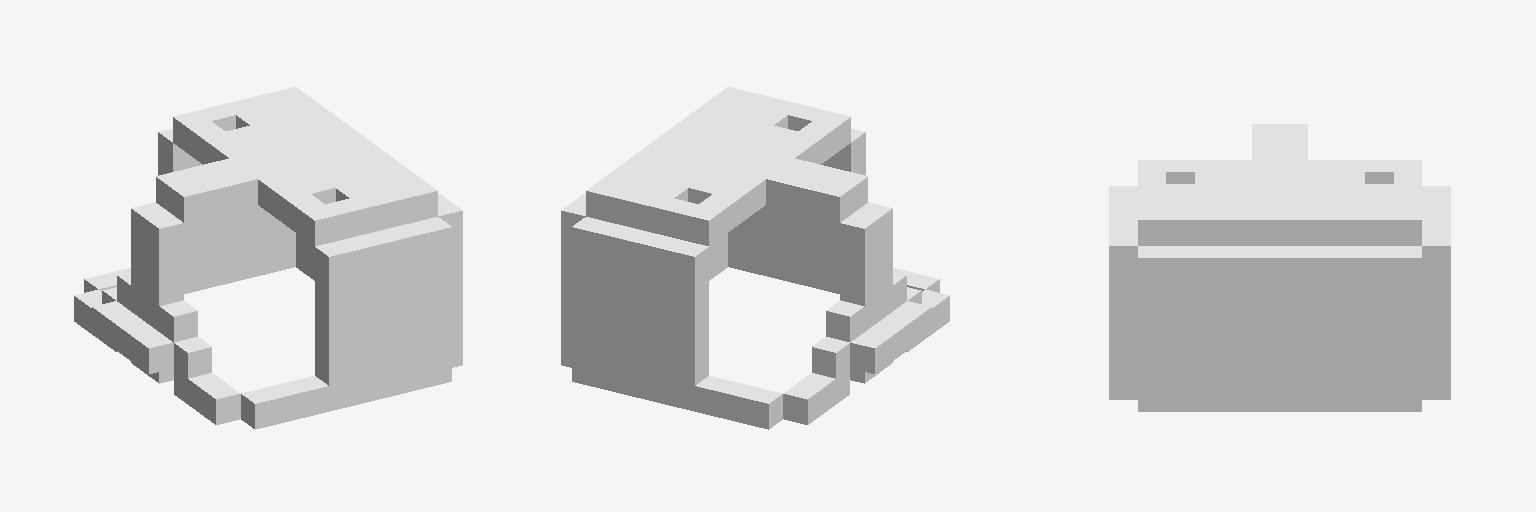
The model's file is MoscaNivel5-1.obj.
3 views of the same model, side by side, from view 1: azimuth 30°, elevation 25°; view 2: azimuth 150°, elevation 25°; view 3: azimuth 270°, elevation 25° (orthographic).
Parts seen in each view (by area): view 1: object 1; view 2: object 1; view 3: object 1.
Boxes of the visible parts, box(x1,y1,x2,y2) form: object 1: box(74, 87, 462, 429); object 1: box(561, 87, 949, 429); object 1: box(1109, 124, 1450, 411).
Bounding box in the file's own units: 1.1 × 0.7 × 1.2.